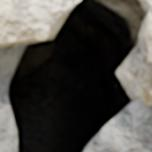broken_brick: (0, 0, 77, 48), (127, 12, 151, 105), (147, 0, 151, 7)
crack: (0, 0, 151, 151)
